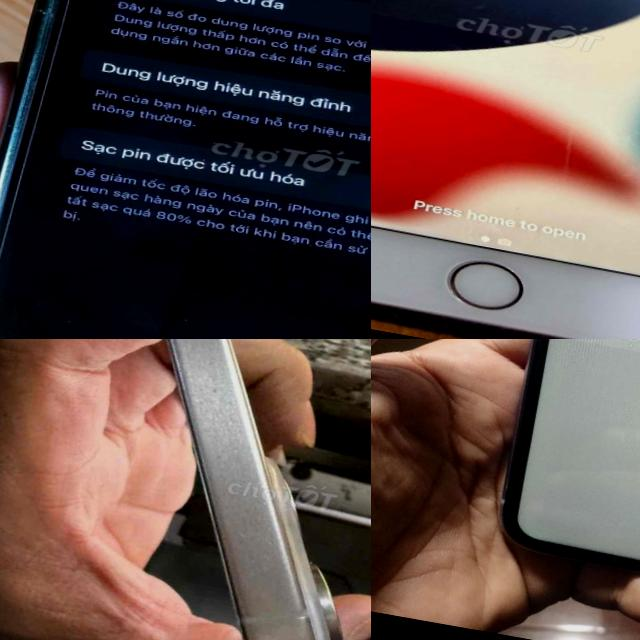gen_11: (486, 339, 640, 613)
gen_15: (70, 339, 371, 640)
gen_7_8: (371, 0, 640, 339)
gen_x_xs: (0, 0, 371, 339)
